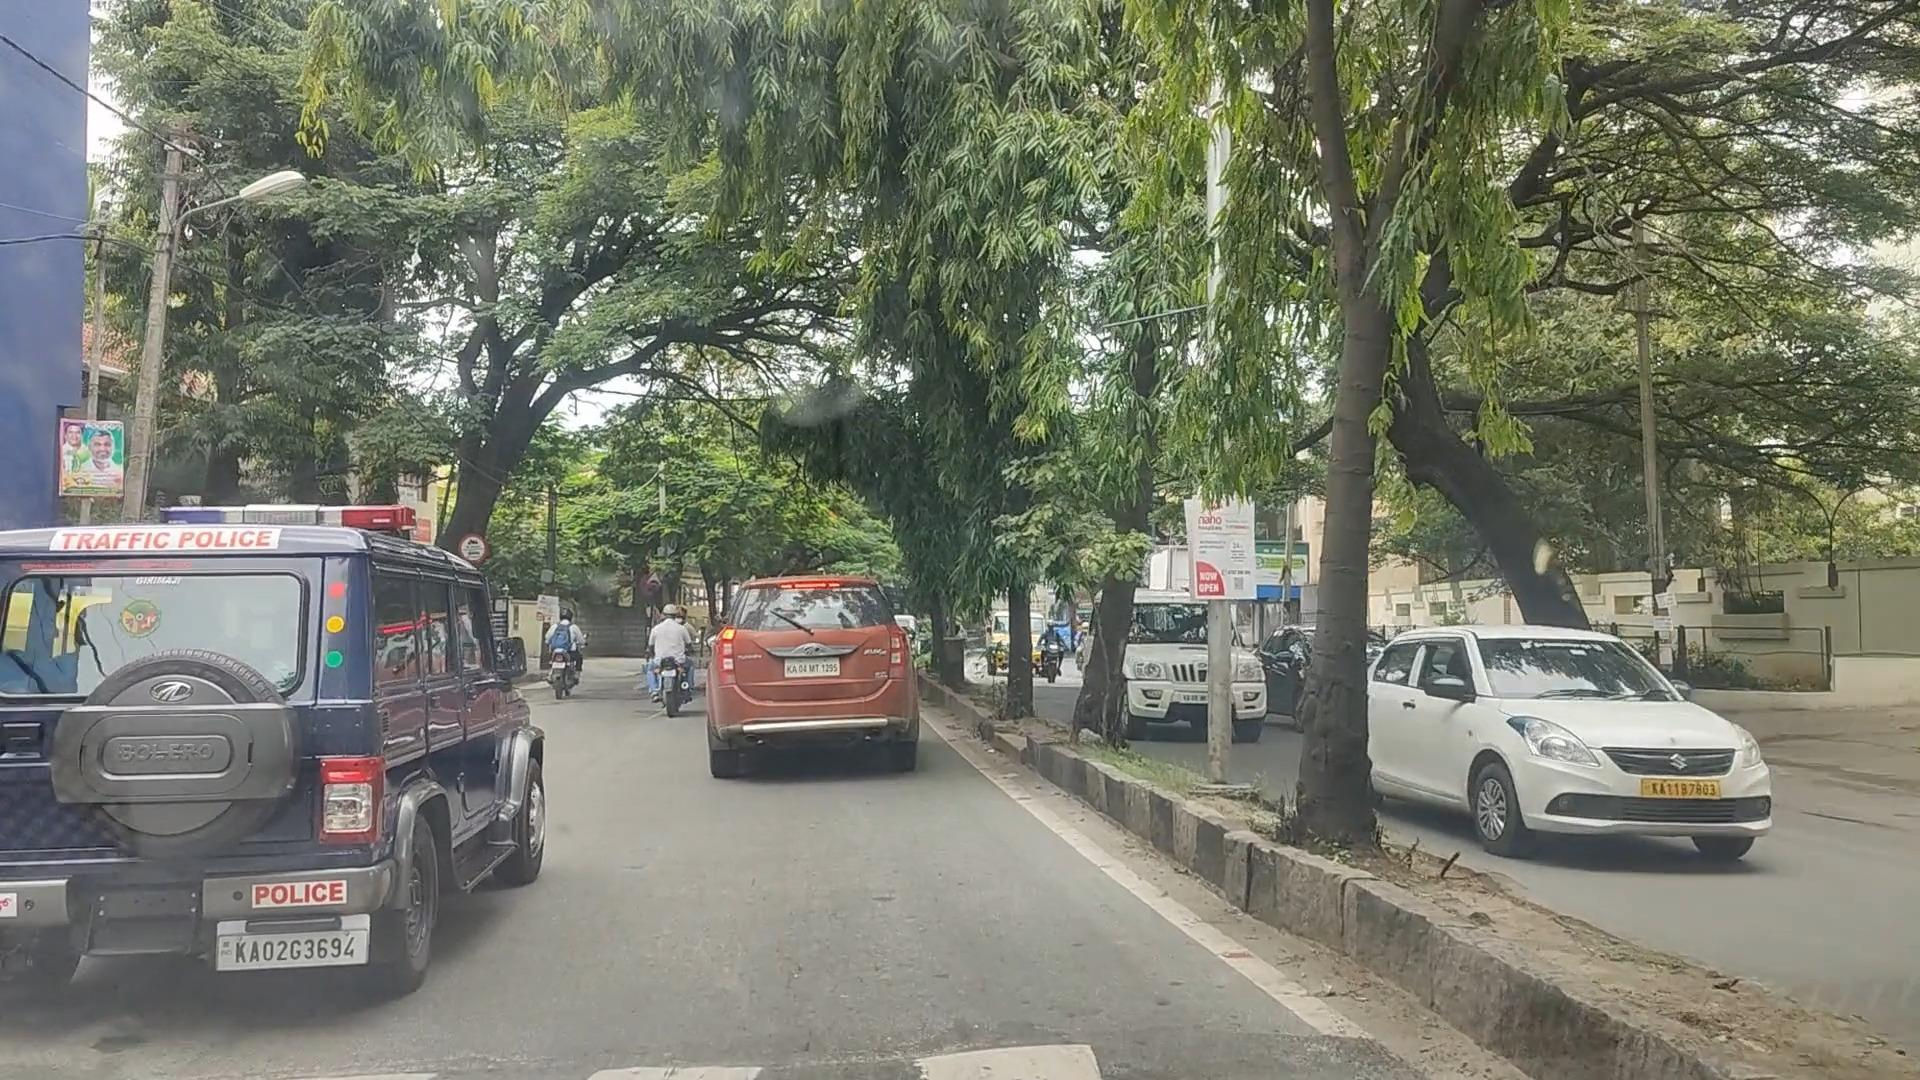LMV: (8, 505, 550, 982), (723, 572, 902, 762)
